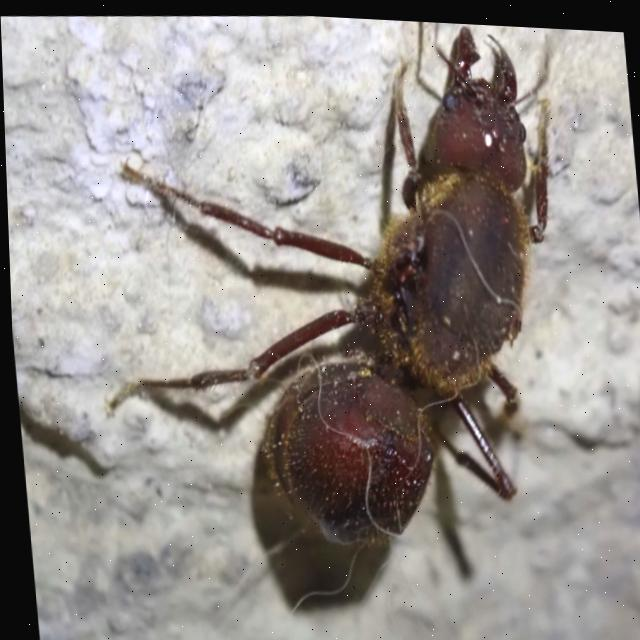Alive-Female-Dealate: (73, 3, 599, 573)
